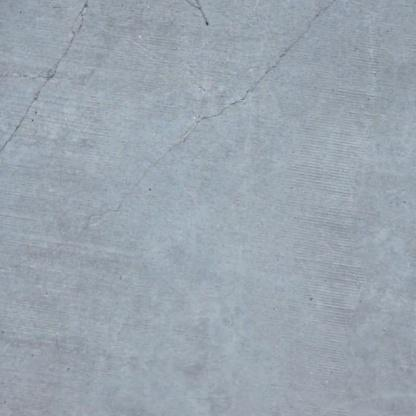Cracks: (0, 0, 365, 277), (0, 0, 109, 173)
